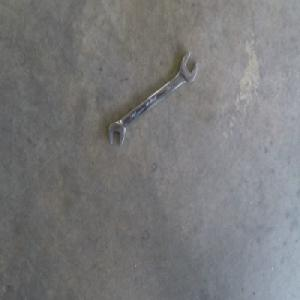Wrench: (110, 53, 200, 147)
